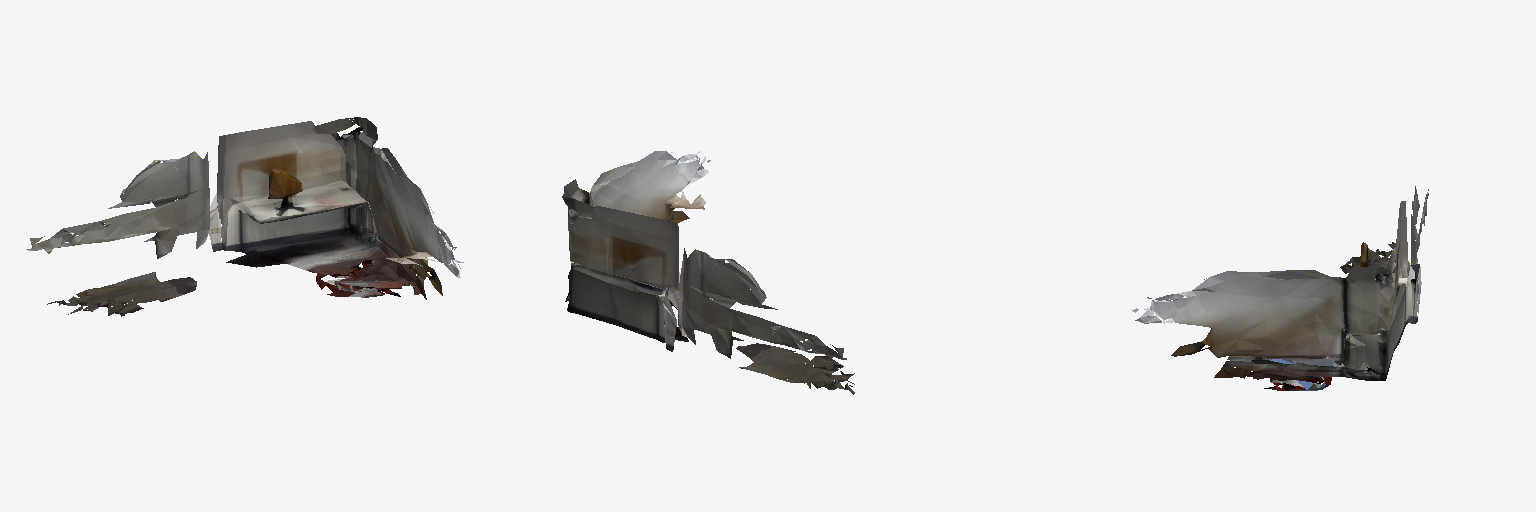
3 renders of one model, left to right at view 1: azimuth 30°, elevation 25°; view 2: azimuth 150°, elevation 25°; view 3: azimuth 270°, elevation 25°, orthographic.
Bounding box in the file's own units: 4.63 × 1.95 × 3.81.
2 materials, 2 textured.